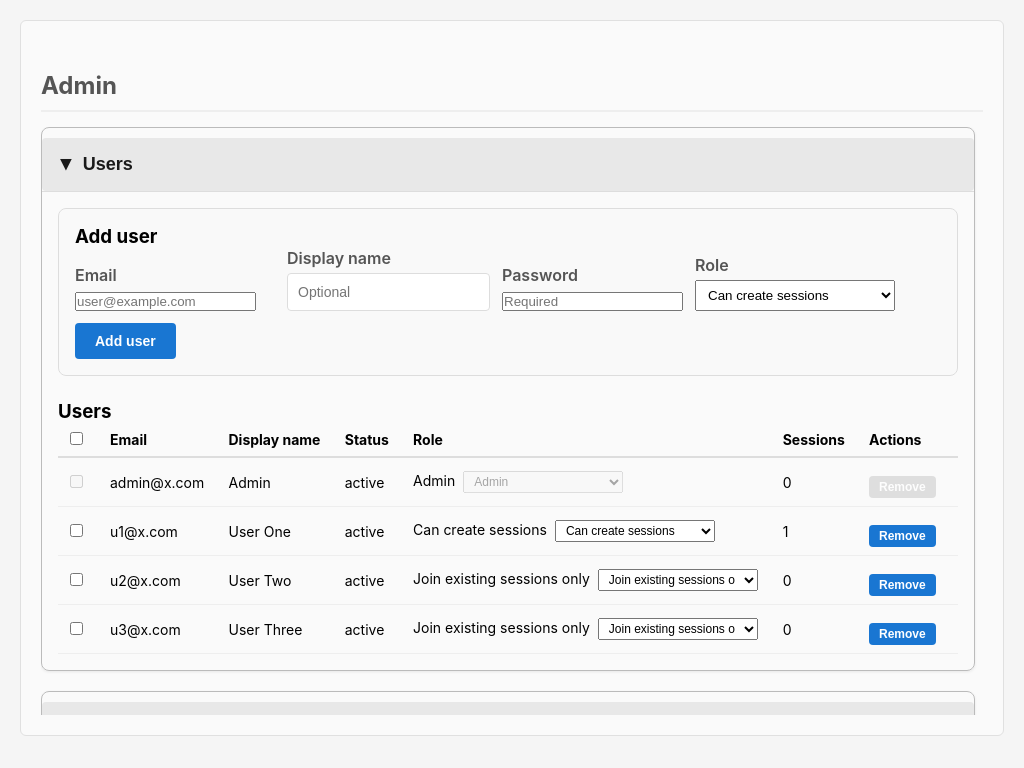
it: AdminUsers bulk delete (SCRUM-582) › shows the indeterminate state when only some rows are selected
Click the checkbox named "Select u1@x.com". click: point(76, 530)
box: [70,524,83,536]
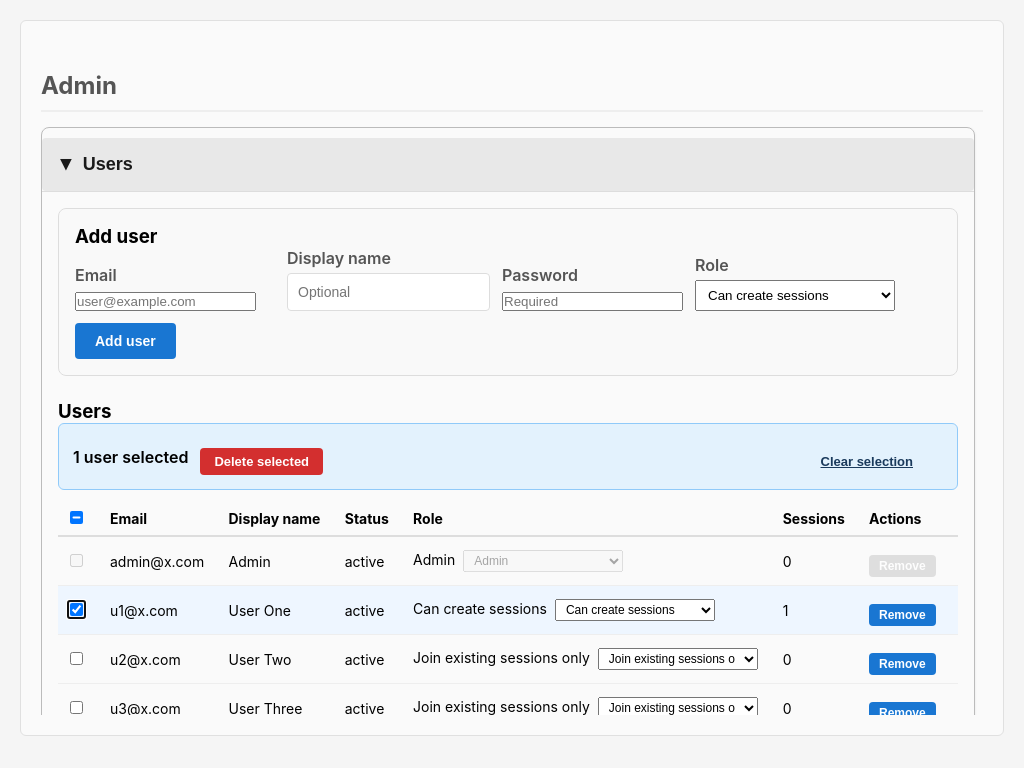
Check: the checkbox named "Select all users" is not checked, box [70,511,83,524]
Check: the text "1 user selected" is shown, box [73,446,188,466]
